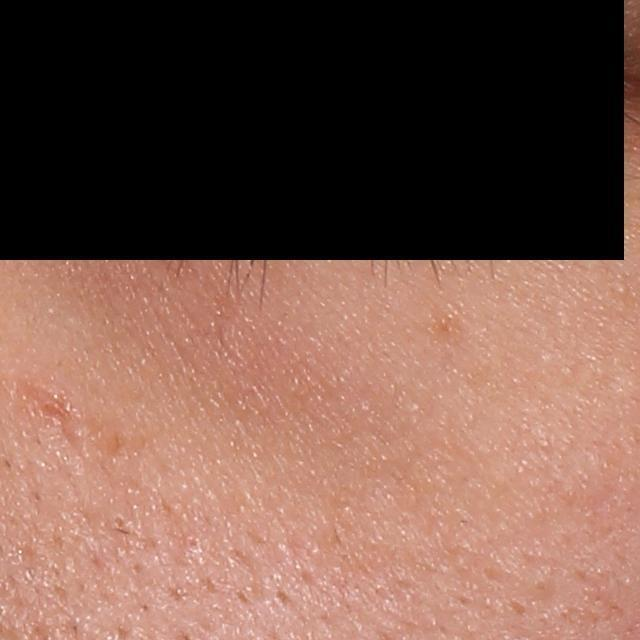comedo: (110, 511, 129, 530)
melasma: (416, 309, 468, 352)
